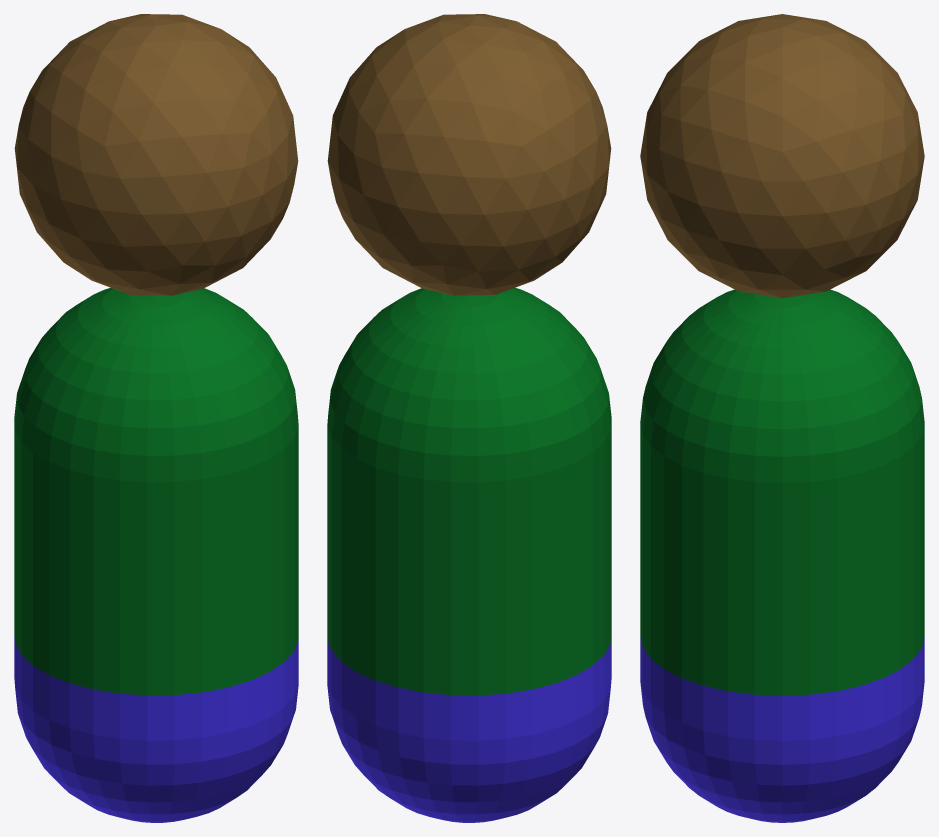
The model's file is player.fbx.
3 renders of one model, left to right at view 1: azimuth 30°, elevation 25°; view 2: azimuth 150°, elevation 25°; view 3: azimuth 270°, elevation 25°, orthographic.
Parts seen in each view (by area): view 1: Sphere, Icosphere.002; view 2: Sphere, Icosphere.002; view 3: Sphere, Icosphere.002.
Part boxes in pixels (x1,y1,x2,y2): Sphere: [14, 287, 298, 822]; Icosphere.002: [14, 14, 298, 295]; Sphere: [327, 287, 611, 822]; Icosphere.002: [327, 14, 611, 295]; Sphere: [640, 289, 924, 822]; Icosphere.002: [640, 14, 924, 298].
Size of the model in its own units: 100 by 303 by 100.
